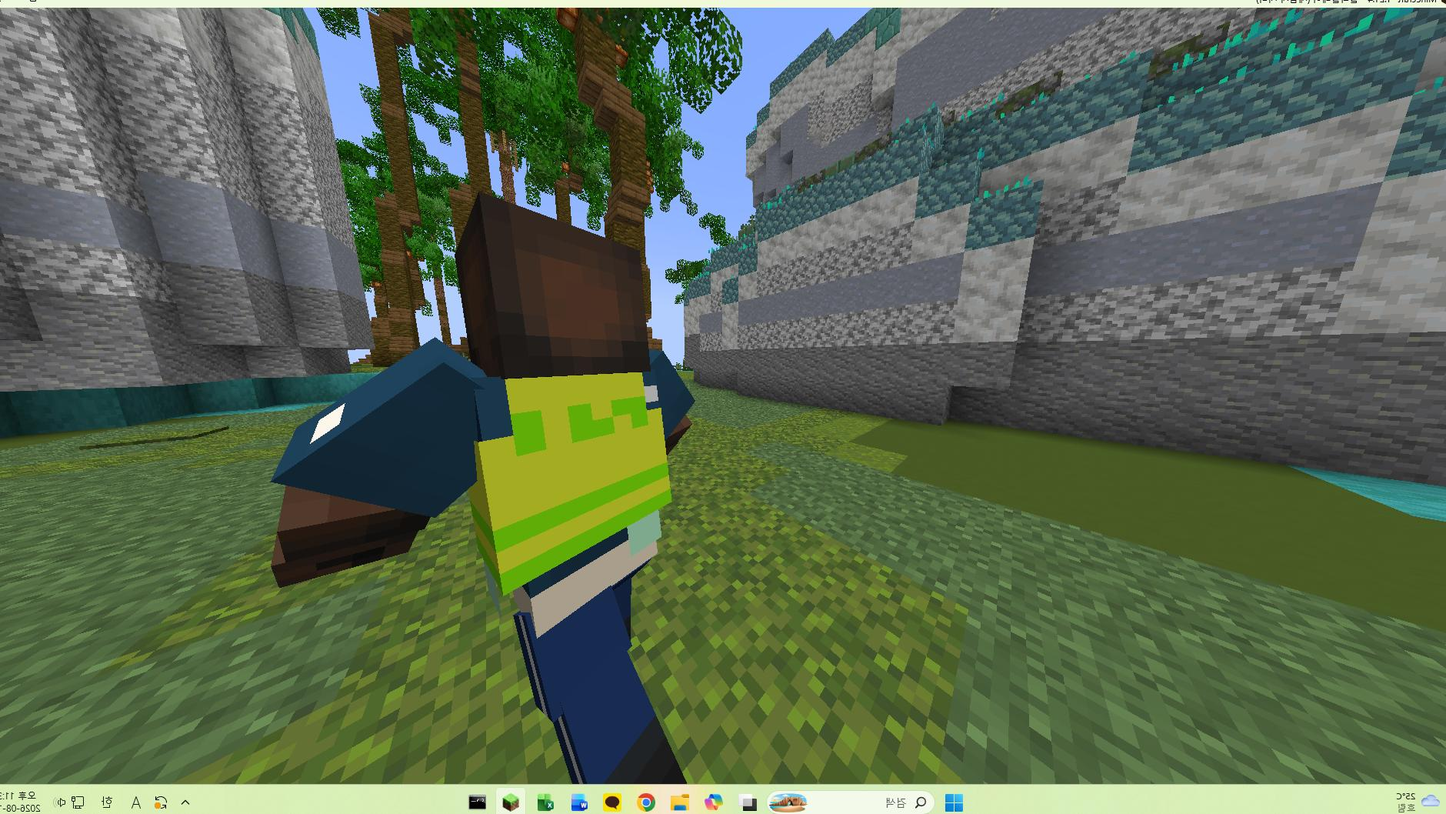Guardian: (272, 198, 689, 782)
